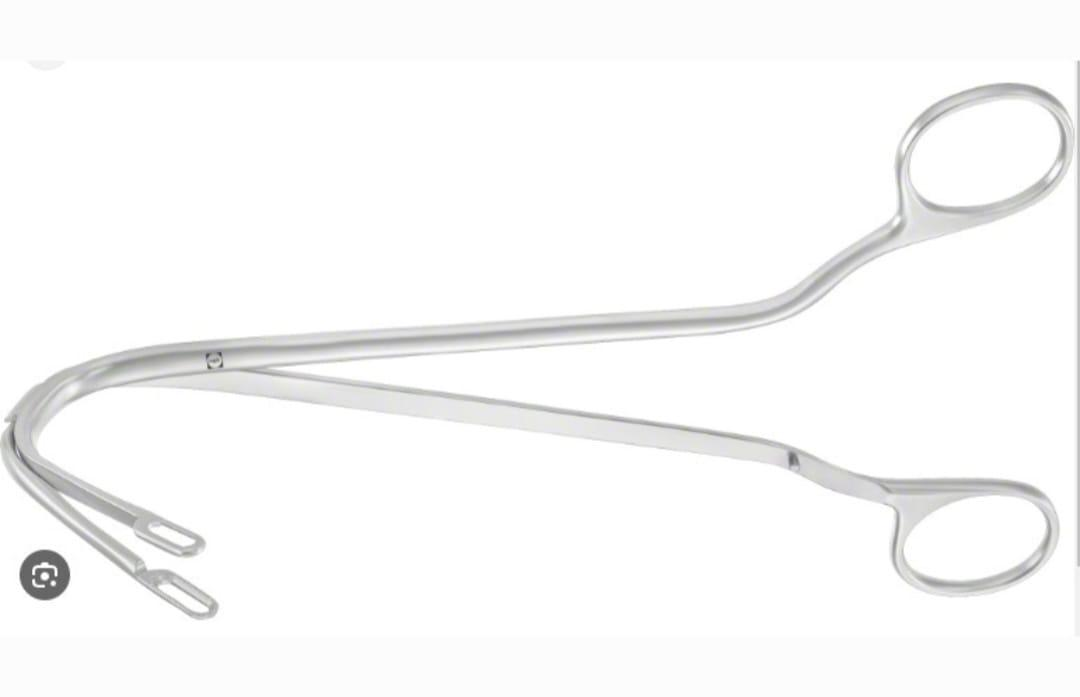Randall Forceps: (0, 67, 1067, 640)
